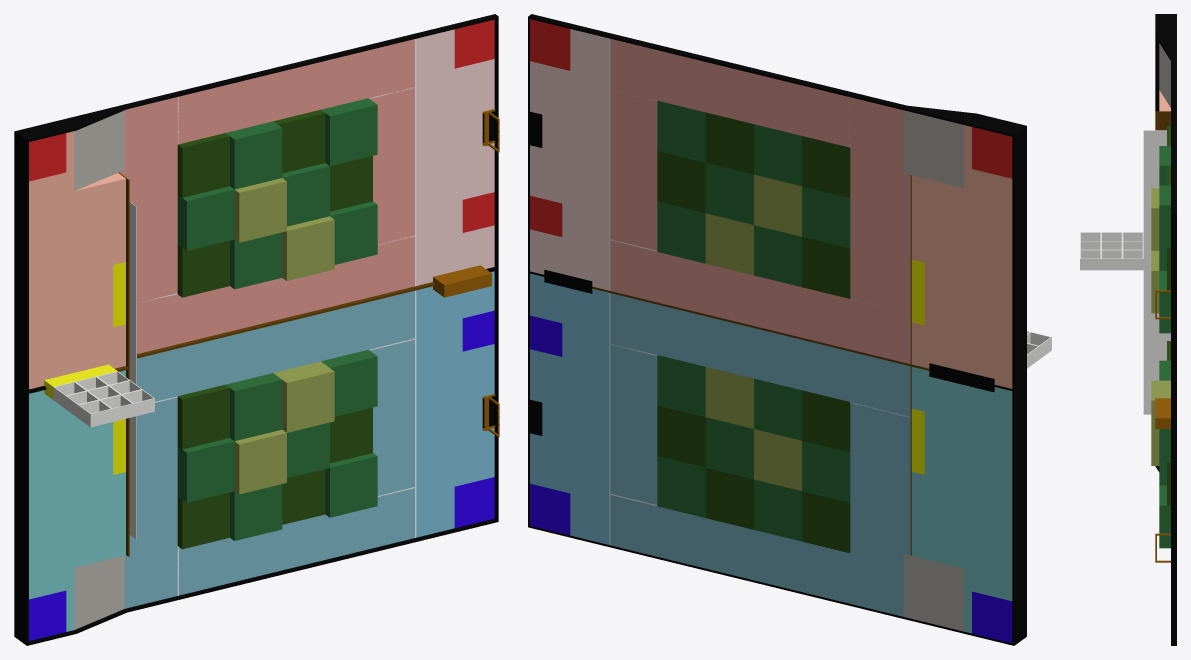
Rendered from arena.obj.
3 renders of one model, left to right at view 1: azimuth 30°, elevation 25°; view 2: azimuth 150°, elevation 25°; view 3: azimuth 270°, elevation 25°, orthographic. The views are drawn at different scales.
Visible parts, largest first — view 1: Meihua Forest Base Red, Meihua Forest Base Blue, Martial Arena Base Red, 400H MF R, Martial Club Base Red, 400 MF B, Boundry, Martial Arena Base Blue, Martial Club Base Blue, 600H MF B, 600H MF R, 200H MF R 1,2 (+20 smaller); view 2: Meihua Forest Base Red, Meihua Forest Base Blue, Martial Arena Base Blue, Martial Arena Base Red, Martial Club Base Blue, Martial Club Base Red, 400H MF R, 400 MF B, Boundry, 200H MF R 1,2, 200H MF B 1,2, 600H MF R (+17 smaller); view 3: Boundry, Acrylic Cover, Tic-Tac-Toe Rack, 400H MF R, 400 MF B, 600H MF R, 600H MF B, Ramp Red Side, Spearhead Rack, Partition, 200H MF R 1,2, 200H MF B 1,2.
Boxes of the visible parts, left/top/right/bottom form: Meihua Forest Base Red: left=119, top=39, right=414, bottom=353; Meihua Forest Base Blue: left=125, top=290, right=414, bottom=608; Martial Arena Base Red: left=29, top=131, right=125, bottom=389; 400H MF R: left=177, top=98, right=377, bottom=289; Martial Club Base Red: left=416, top=29, right=494, bottom=285; 400 MF B: left=177, top=349, right=377, bottom=540; Boundry: left=14, top=14, right=498, bottom=645; Martial Arena Base Blue: left=29, top=370, right=125, bottom=631; Martial Club Base Blue: left=416, top=271, right=494, bottom=537; 600H MF B: left=234, top=361, right=334, bottom=494; 600H MF R: left=234, top=178, right=334, bottom=280; 200H MF R 1,2: left=273, top=109, right=372, bottom=211; Meihua Forest Base Red: left=610, top=38, right=910, bottom=363; Meihua Forest Base Blue: left=610, top=293, right=910, bottom=616; Martial Arena Base Blue: left=911, top=366, right=1012, bottom=633; Martial Arena Base Red: left=911, top=125, right=1012, bottom=388; Martial Club Base Blue: left=530, top=273, right=609, bottom=544; Martial Club Base Red: left=530, top=29, right=609, bottom=290; 400H MF R: left=657, top=100, right=850, bottom=286; 400 MF B: left=657, top=355, right=850, bottom=541; Boundry: left=528, top=14, right=1026, bottom=645; 200H MF R 1,2: left=657, top=112, right=753, bottom=213; 200H MF B 1,2: left=657, top=405, right=753, bottom=529; 600H MF R: left=705, top=174, right=801, bottom=275; Boundry: left=1155, top=14, right=1176, bottom=645; Acrylic Cover: left=1143, top=130, right=1170, bottom=414; Tic-Tac-Toe Rack: left=1080, top=232, right=1143, bottom=270; 400H MF R: left=1159, top=146, right=1170, bottom=333; 400 MF B: left=1159, top=360, right=1170, bottom=548; 600H MF R: left=1151, top=188, right=1159, bottom=313; 600H MF B: left=1151, top=380, right=1170, bottom=465; Ramp Red Side: left=1159, top=43, right=1170, bottom=107; Spearhead Rack: left=1154, top=398, right=1170, bottom=428; Partition: left=1155, top=111, right=1170, bottom=130; 200H MF R 1,2: left=1167, top=165, right=1170, bottom=290; 200H MF B 1,2: left=1167, top=463, right=1170, bottom=505.
Bounding box in the file's own units: 12.1 × 12.15 × 2.47.
